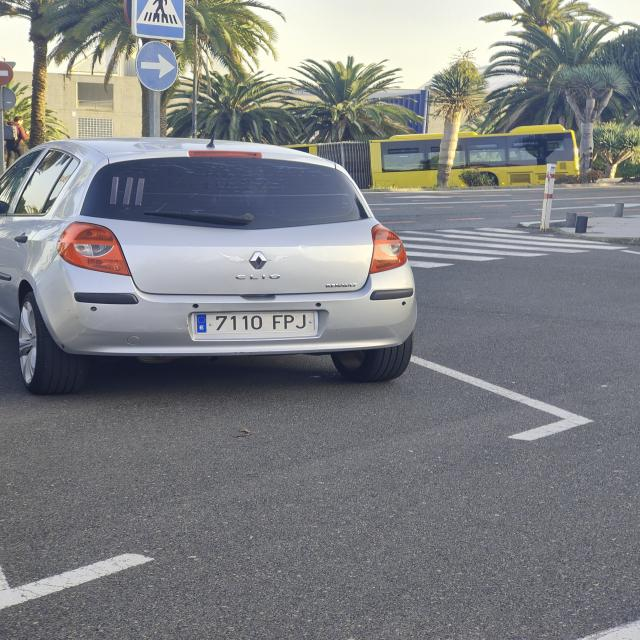License-Plate: (192, 309, 318, 334)
